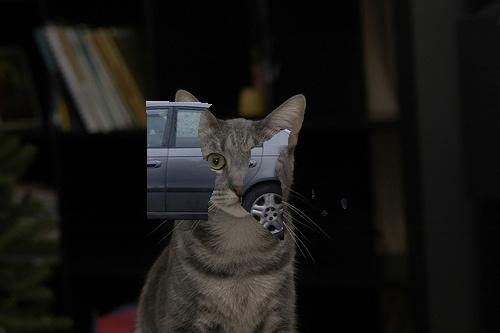tampered: (147, 102, 347, 240)
